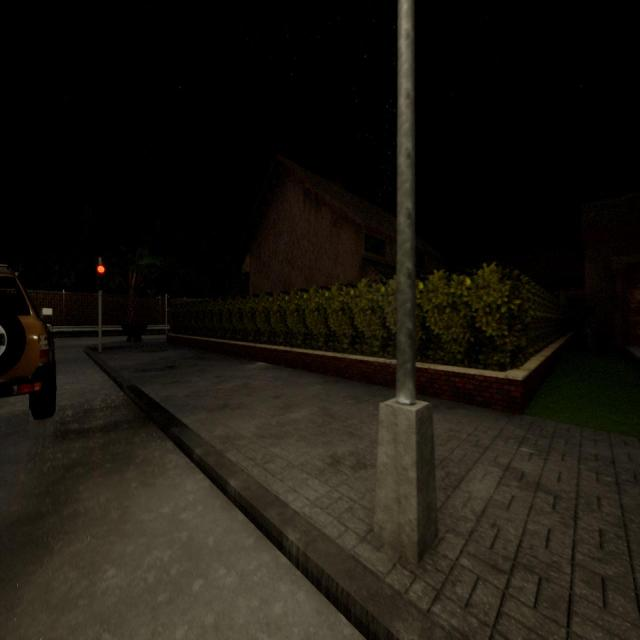Vehicle: (0, 266, 56, 420)
traffic_light: (97, 263, 105, 290)
